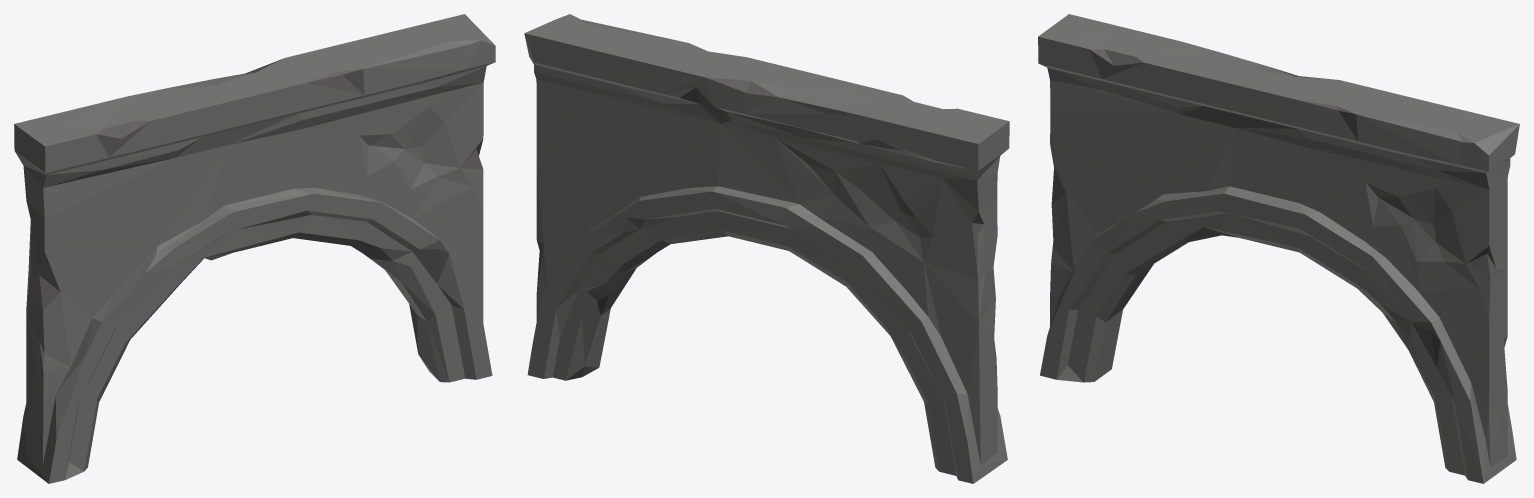
The model's file is SM_Env_Wall_Archway_01.FBX.
3 views of the same model, side by side, from view 1: azimuth 30°, elevation 25°; view 2: azimuth 150°, elevation 25°; view 3: azimuth 330°, elevation 25° (orthographic).
Parts seen in each view (by area): view 1: SM_Env_Wall_Archway_01; view 2: SM_Env_Wall_Archway_01; view 3: SM_Env_Wall_Archway_01.
Part boxes in pixels (x1=…): SM_Env_Wall_Archway_01: x1=14, y1=14, x2=495, y2=483; SM_Env_Wall_Archway_01: x1=524, y1=14, x2=1009, y2=483; SM_Env_Wall_Archway_01: x1=1038, y1=14, x2=1519, y2=483.
Size of what is drawn, in the model's own units: 513 by 65.03 by 368.
